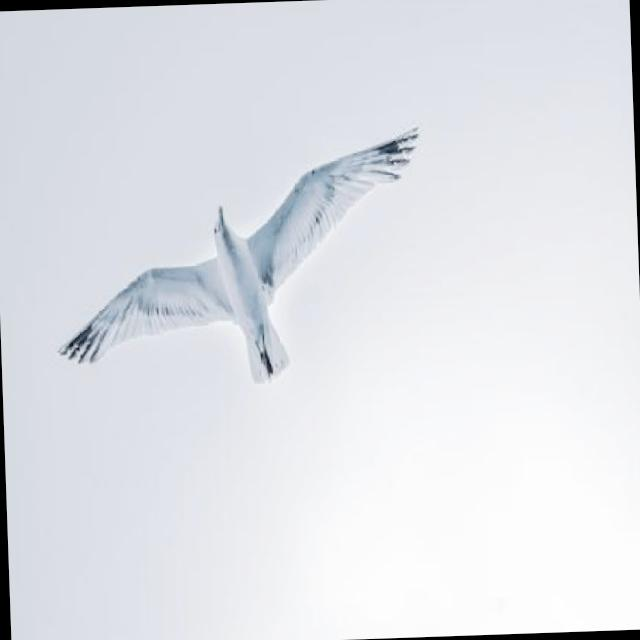bird: (49, 124, 429, 392)
